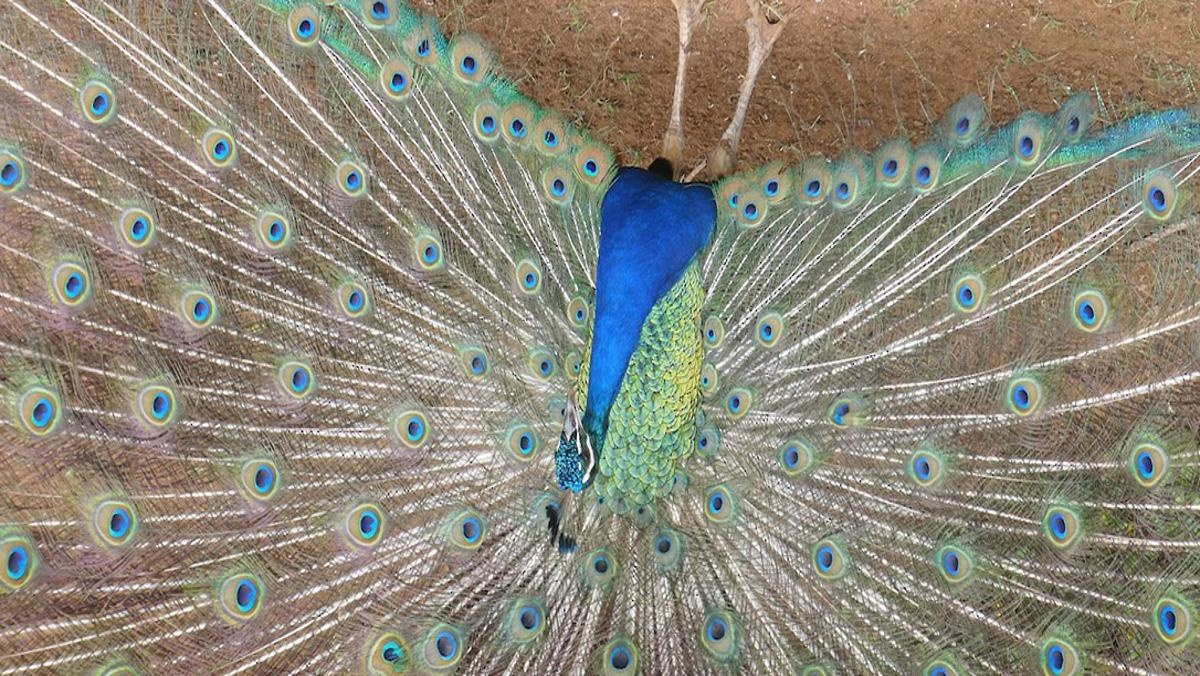peacock: (108, 8, 1200, 676)
